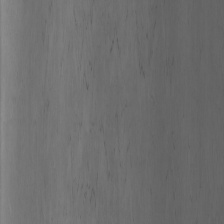silk_spot: (64, 0, 157, 184)
